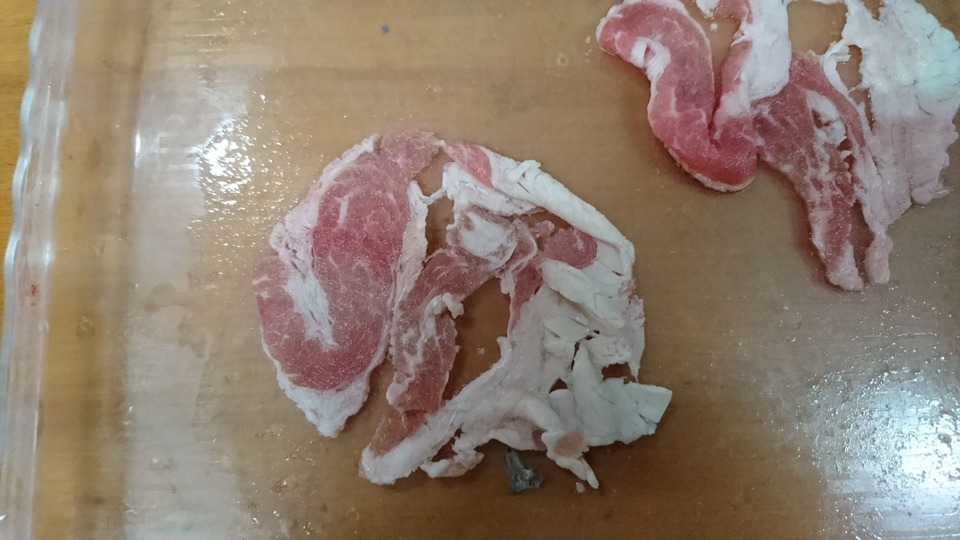restructured meat: (258, 122, 673, 495), (599, 1, 960, 286)
